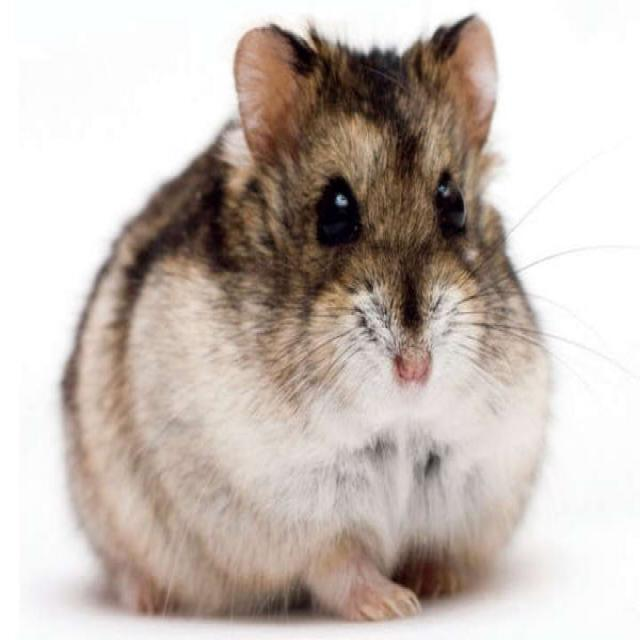hamster: (58, 15, 558, 619)
